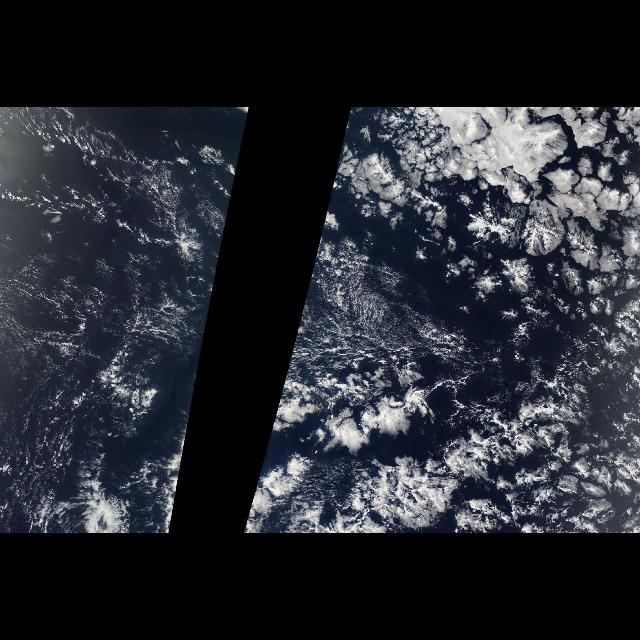Flower: (354, 117, 638, 526)
Sugar: (2, 124, 202, 476), (287, 265, 415, 371)
